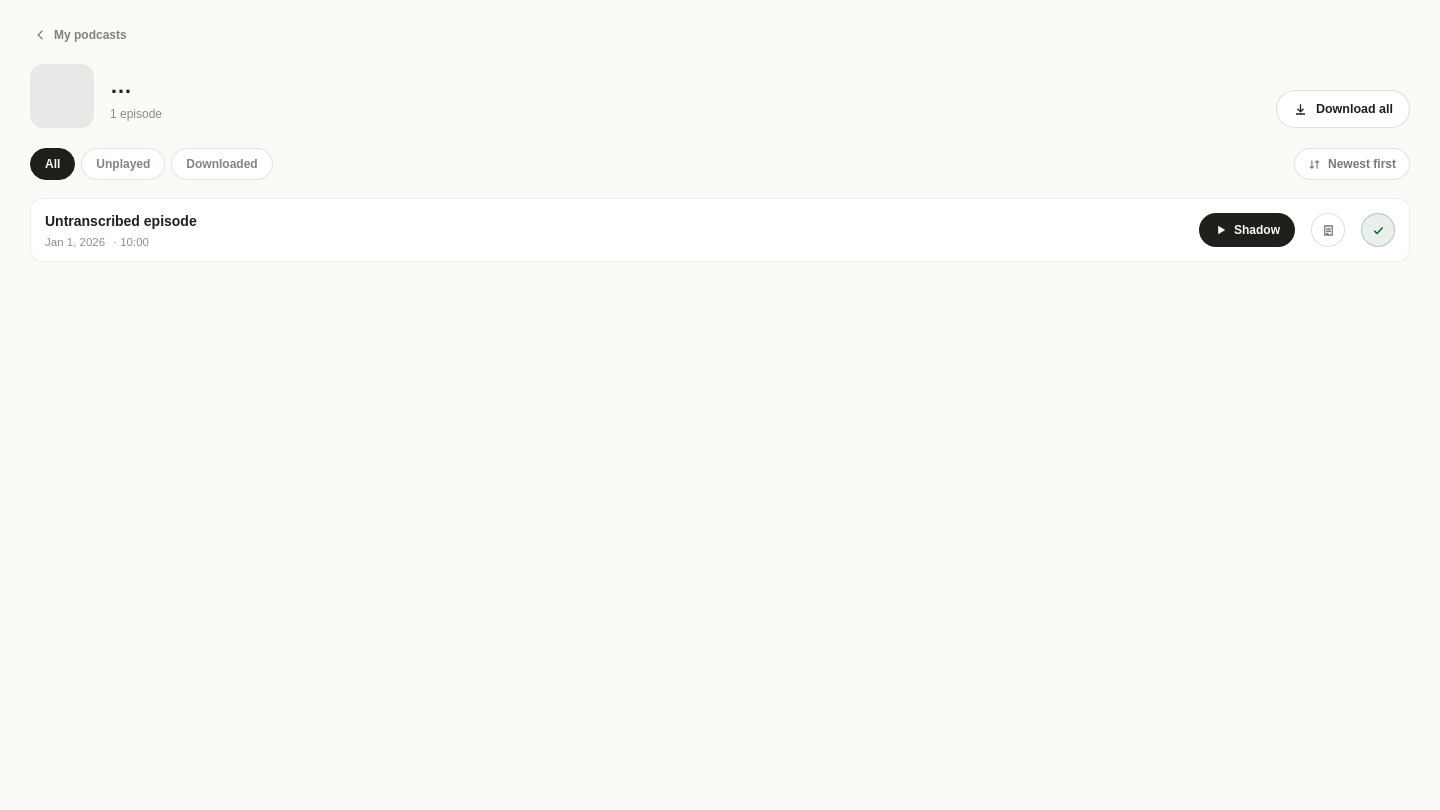
Scenario: Episodes › stops polling and surfaces a retry affordance after repeated status-check failures
Check: the text "Untranscribed episode" is shown, box [45, 213, 197, 229]
Click the button named "Transcribe" at (1328, 230), box [1311, 213, 1345, 247]
Wait 6000 ms
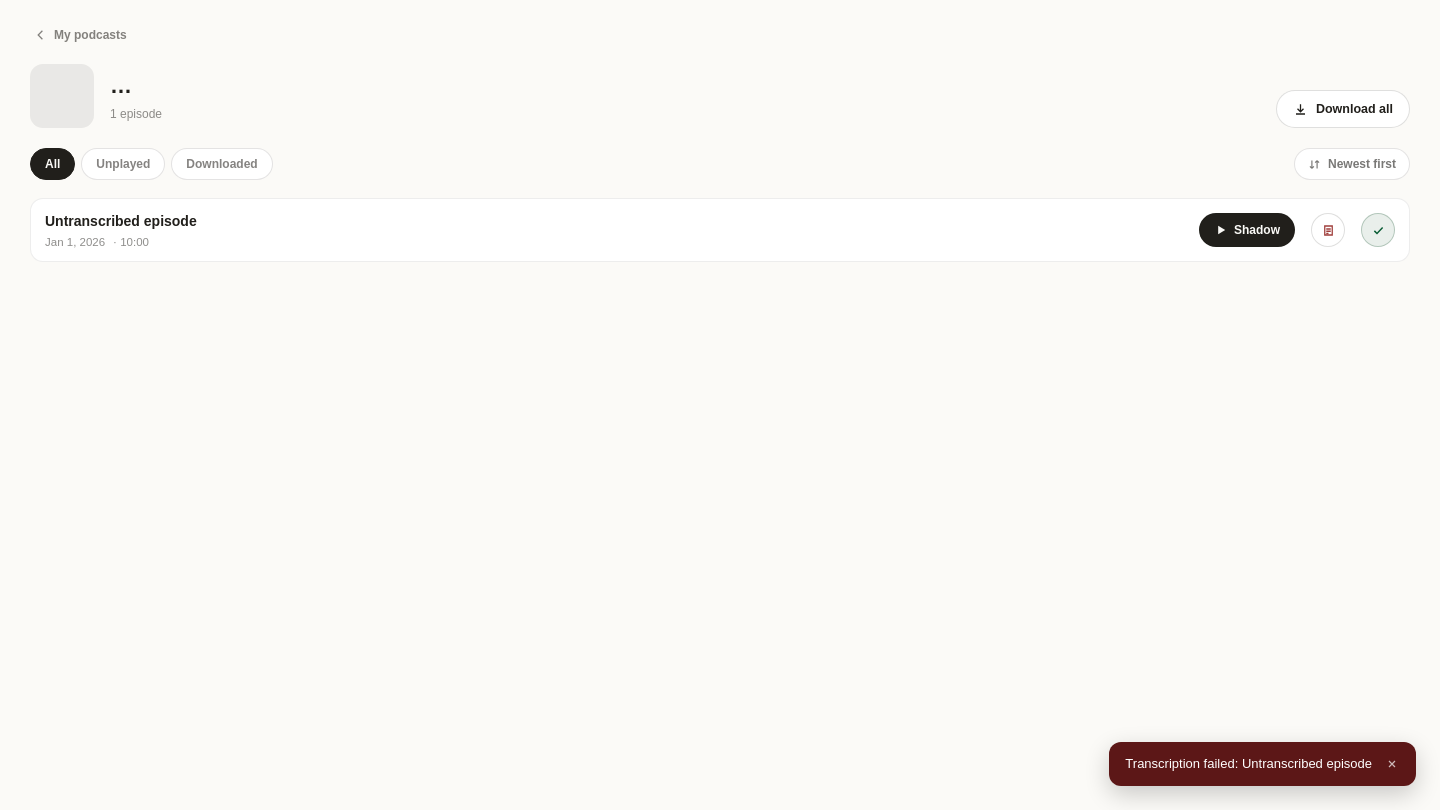
Check: the button named "Retry transcription" is shown, box [1311, 213, 1345, 247]
